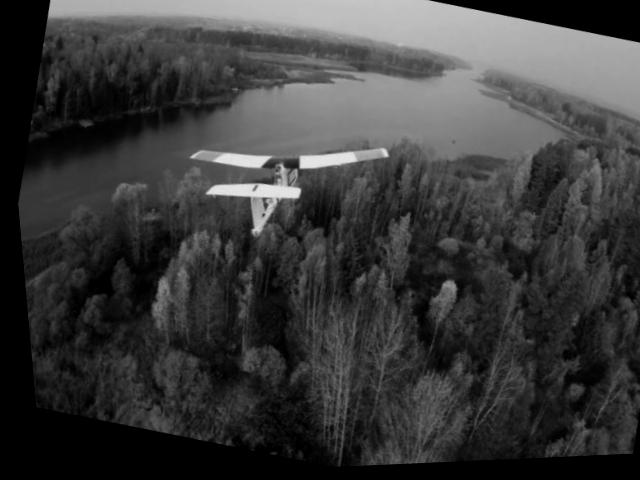hedef: (156, 105, 399, 282)
